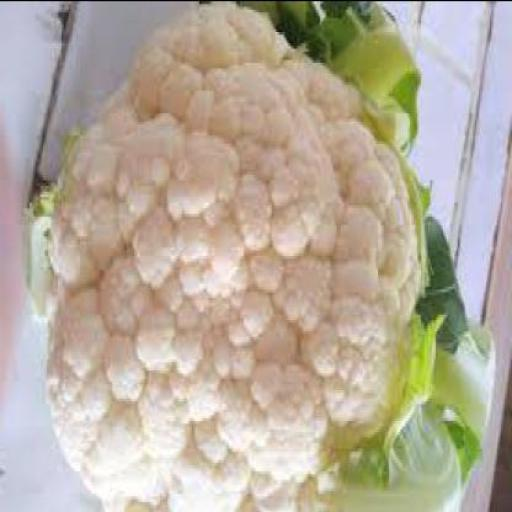biodegradable: (26, 0, 426, 510), (305, 174, 497, 510), (240, 2, 427, 152)
